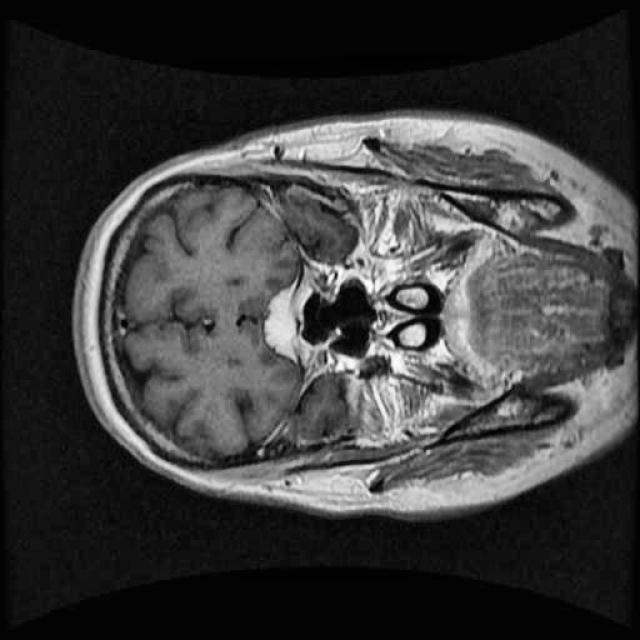Tumor: (255, 268, 308, 375)
